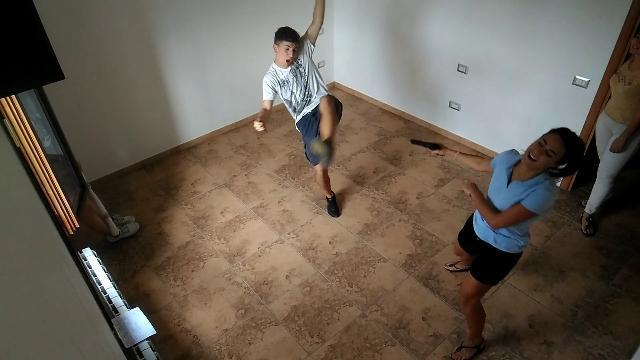knife: (254, 118, 270, 137)
non-violence: (584, 29, 640, 238), (49, 153, 141, 241)
violence: (414, 126, 586, 358), (250, 2, 346, 221)
weapon: (408, 135, 445, 157)
